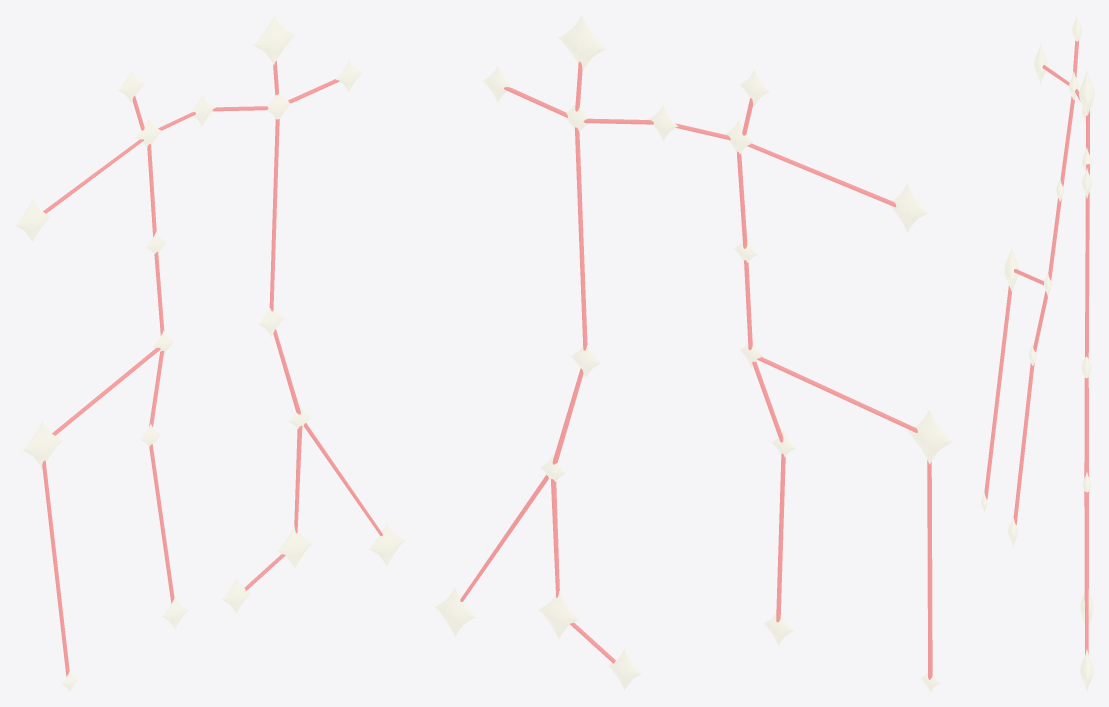
File: sozvezdiya-blizneci.glb
3 views of the same model, side by side, from view 1: azimuth 30°, elevation 25°; view 2: azimuth 150°, elevation 25°; view 3: azimuth 270°, elevation 25° (orthographic). The views are drawn at different scales.
Visible parts, largest first — view 1: Cylinder, Sphere.008, Sphere.016, Sphere.004, Sphere.003, Sphere.011; view 2: Cylinder, Sphere.008, Sphere.016, Sphere.004, Sphere.003, Sphere.011; view 3: Cylinder, Sphere.008, Sphere.016, Sphere.004, Sphere.011, Sphere.003.
Part boxes in pixels (<box>): Cylinder: <box>42,61,382,676</box>; Sphere.008: <box>253,14,295,65</box>; Sphere.016: <box>22,420,62,469</box>; Sphere.004: <box>368,522,405,566</box>; Sphere.003: <box>276,526,313,568</box>; Sphere.011: <box>14,199,50,242</box>; Cylinder: <box>460,61,932,679</box>; Sphere.008: <box>558,14,606,71</box>; Sphere.016: <box>906,409,952,464</box>; Sphere.004: <box>434,587,475,636</box>; Sphere.003: <box>538,591,579,639</box>; Sphere.011: <box>889,183,927,232</box>; Cylinder: <box>984,40,1089,654</box>; Sphere.008: <box>1079,69,1094,115</box>; Sphere.016: <box>1004,246,1019,294</box>; Sphere.004: <box>1080,649,1093,691</box>; Sphere.011: <box>1034,42,1047,85</box>; Sphere.003: <box>1080,592,1093,621</box>.
Bounding box in the file's own units: 0.1588 × 0.2126 × 0.0378.
